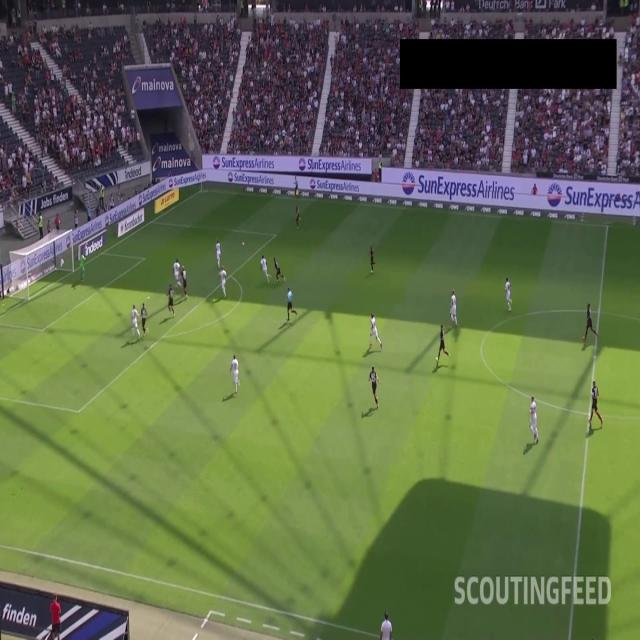ball: (241, 237, 246, 249)
player: (590, 381, 602, 431), (584, 299, 596, 346), (529, 394, 540, 445), (370, 308, 382, 350), (437, 321, 448, 366), (371, 365, 381, 410), (232, 353, 242, 394), (259, 254, 272, 284), (450, 287, 460, 325), (172, 257, 182, 291), (272, 257, 285, 283), (131, 300, 140, 337), (181, 261, 189, 299), (220, 264, 228, 299), (504, 276, 512, 310), (141, 302, 149, 336), (368, 242, 376, 274), (168, 284, 175, 316), (216, 238, 223, 266), (294, 204, 301, 226), (80, 252, 84, 280)
